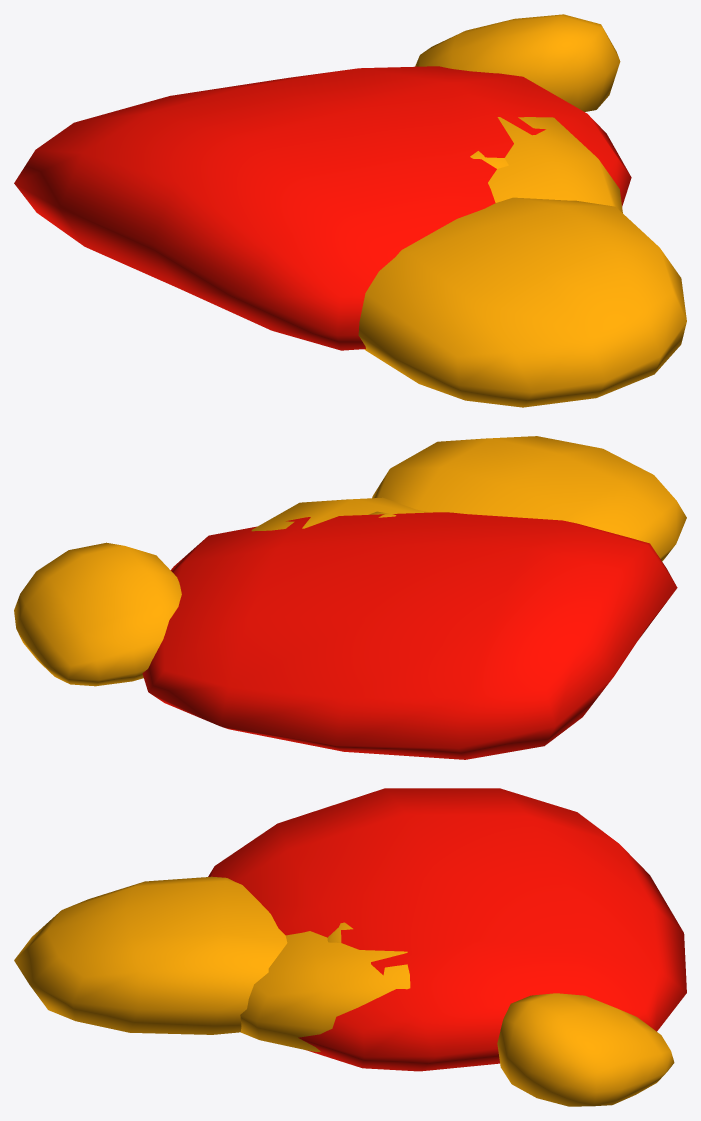
File: cailloux_decors.fbx
3 views of the same model, one above another, from view 1: azimuth 30°, elevation 25°; view 2: azimuth 150°, elevation 25°; view 3: azimuth 270°, elevation 25° (orthographic). The views are drawn at different scales.
Parts seen in each view (by area): view 1: cailloux_decors_1, cailloux_decors_assemblage, cailloux_decors_2; view 2: cailloux_decors_1, cailloux_decors_assemblage, cailloux_decors_2; view 3: cailloux_decors_1, cailloux_decors_assemblage, cailloux_decors_2.
Boxes of the visible parts, left/top/right/bottom form: cailloux_decors_1: left=14, top=66, right=631, bottom=350; cailloux_decors_assemblage: left=358, top=14, right=686, bottom=407; cailloux_decors_2: left=488, top=117, right=622, bottom=212; cailloux_decors_1: left=142, top=512, right=677, bottom=759; cailloux_decors_assemblage: left=14, top=436, right=686, bottom=686; cailloux_decors_2: left=251, top=497, right=430, bottom=531; cailloux_decors_1: left=208, top=788, right=686, bottom=1071; cailloux_decors_assemblage: left=14, top=876, right=674, bottom=1106; cailloux_decors_2: left=240, top=931, right=410, bottom=1051.
Bounding box in the file's own units: 261 × 51.61 × 232.
